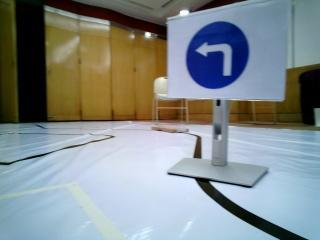left: (172, 19, 278, 97)
